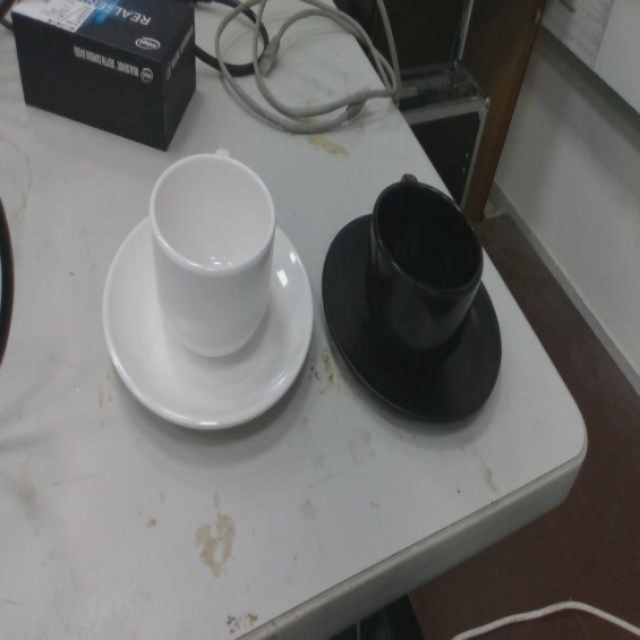black: (319, 170, 506, 430)
white: (99, 141, 316, 439)
